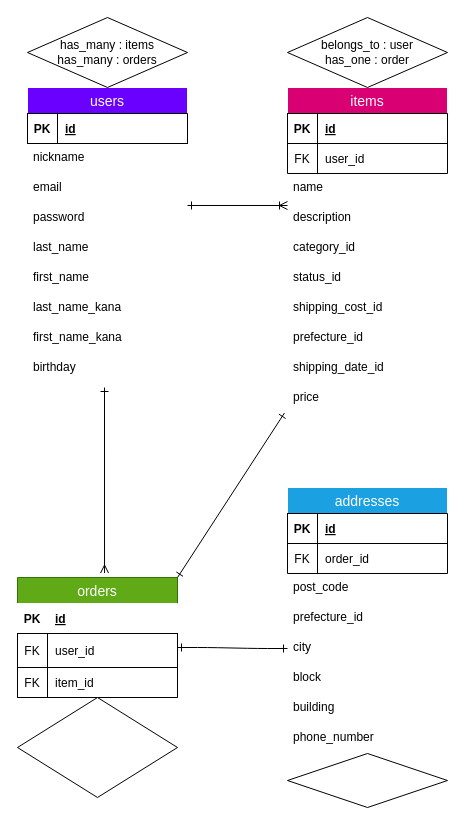
Image size: 465x825. Some labels were removed from this diagram. Each missing label, with the centre of its shape:
"belongs_to : order" belongs at (x=367, y=780).
"belongs_to : user belogs_to : item has_one :address" belongs at (x=97, y=747).
